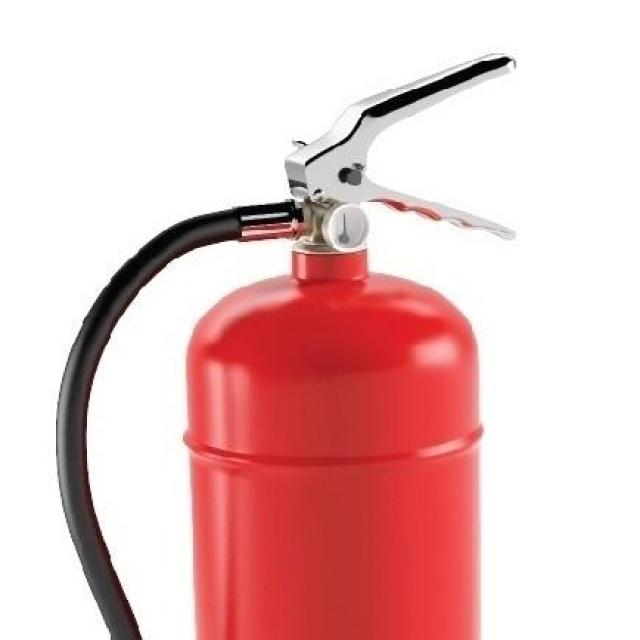fire_extinguisher: (45, 46, 524, 639)
